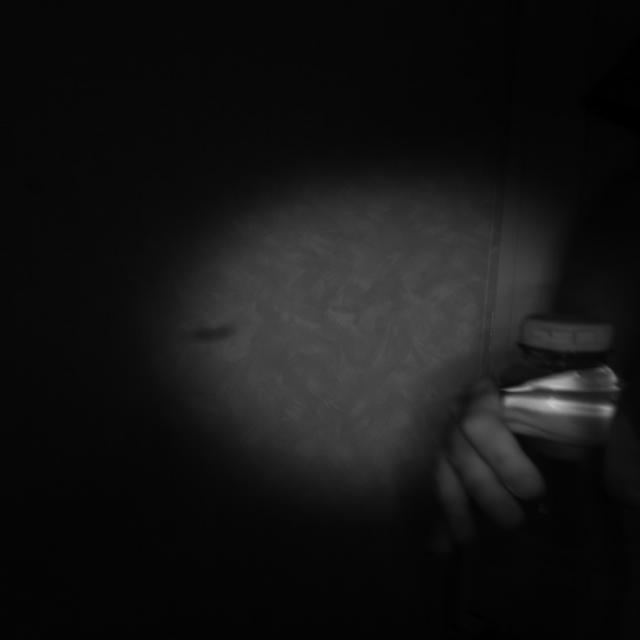Good: (513, 314, 616, 354)
